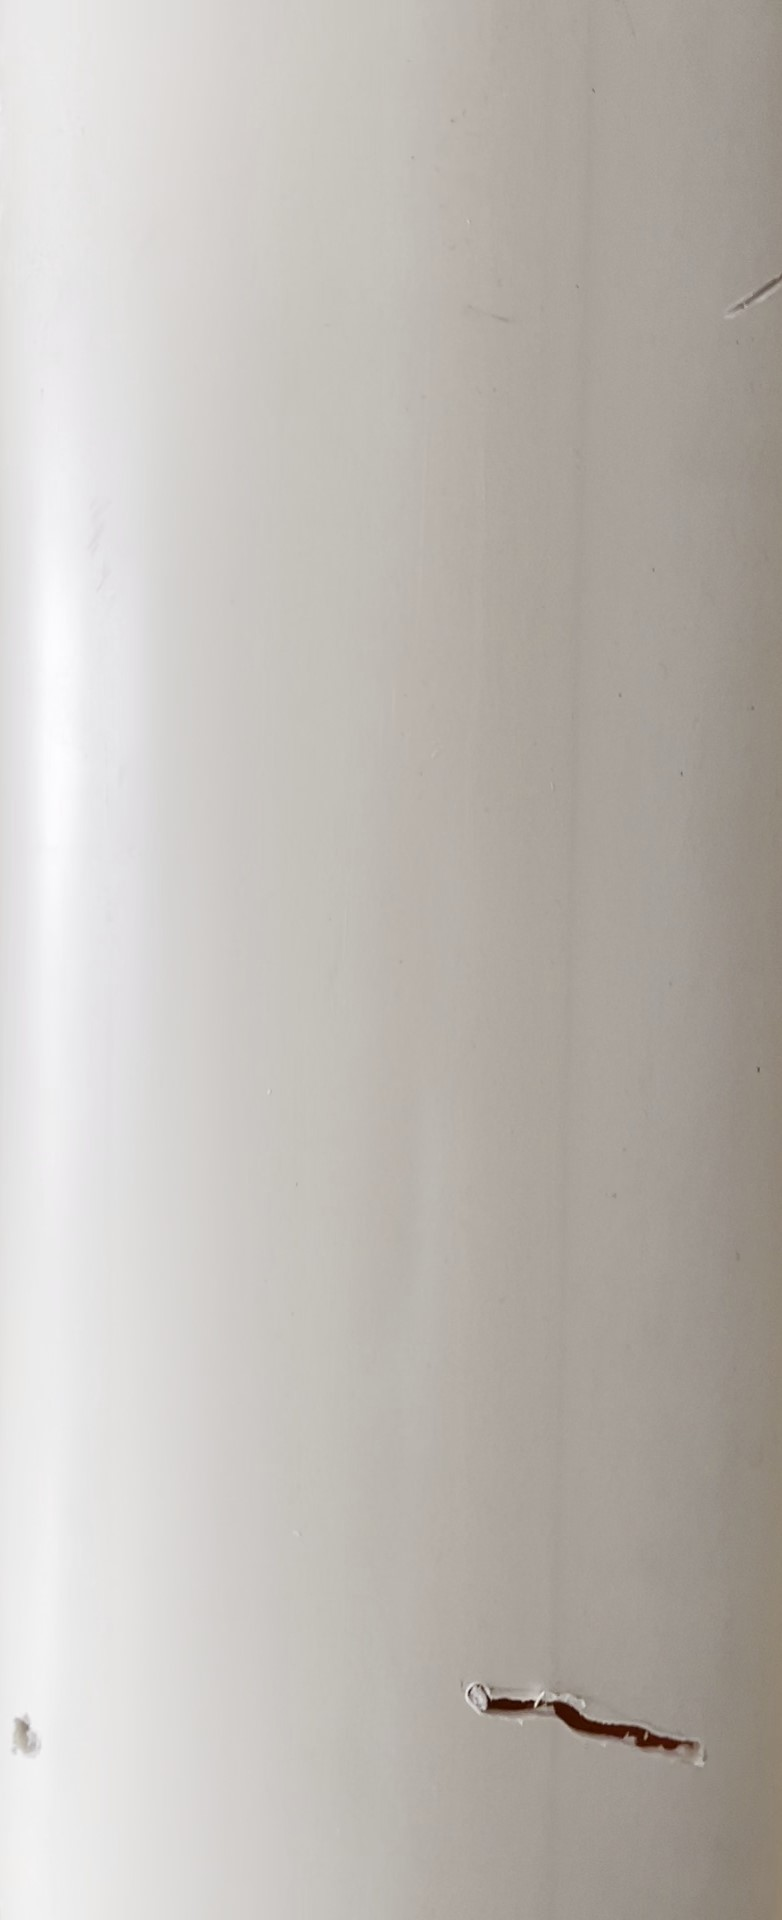fengxi: (450, 1679, 723, 1767)
kongdong: (1, 1716, 48, 1763)
